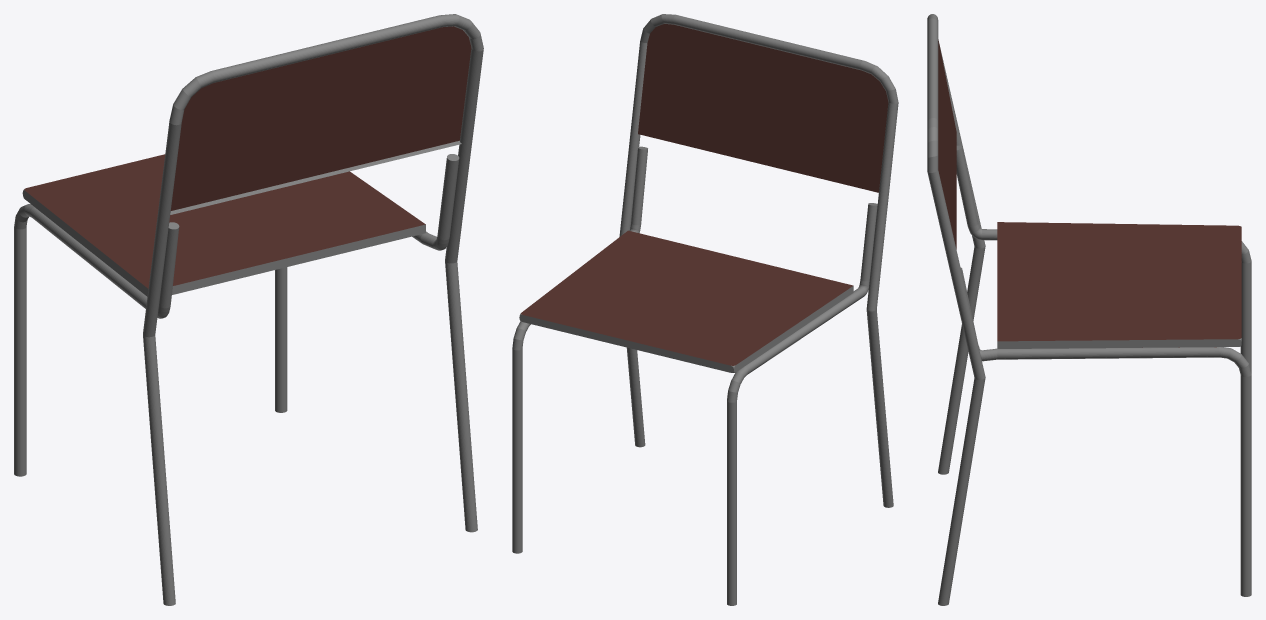
File: Chair.fbx
3 views of the same model, side by side, from view 1: azimuth 30°, elevation 25°; view 2: azimuth 150°, elevation 25°; view 3: azimuth 270°, elevation 25° (orthographic). The views are drawn at different scales.
Visible parts, largest first — view 1: Chair01; view 2: Chair01; view 3: Chair01.
Boxes of the visible parts, x1,y1,x2,y2 form: Chair01: [14, 14, 483, 605]; Chair01: [512, 14, 898, 605]; Chair01: [927, 14, 1251, 605].
Bounding box in the file's own units: 58.06 × 93.52 × 58.51.
